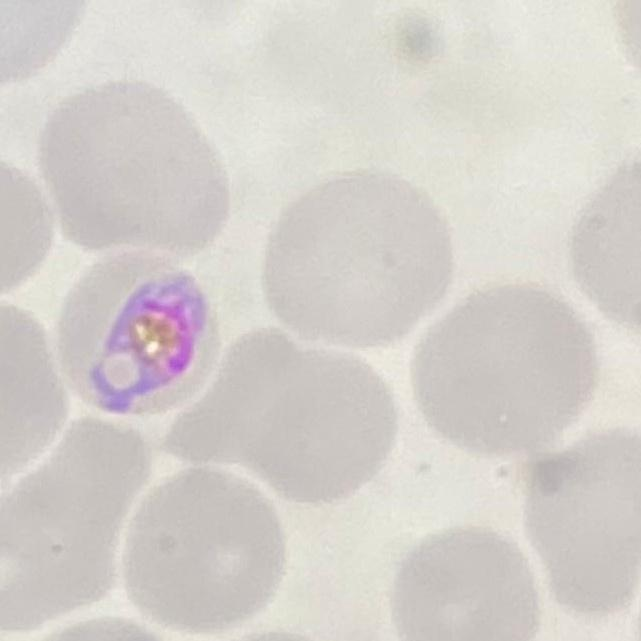Infected: (58, 244, 219, 411)
Uninfected: (265, 168, 457, 353), (0, 408, 151, 621), (39, 86, 233, 251), (209, 332, 395, 503), (416, 282, 596, 454), (124, 467, 289, 631), (524, 423, 641, 614), (394, 530, 541, 641)
